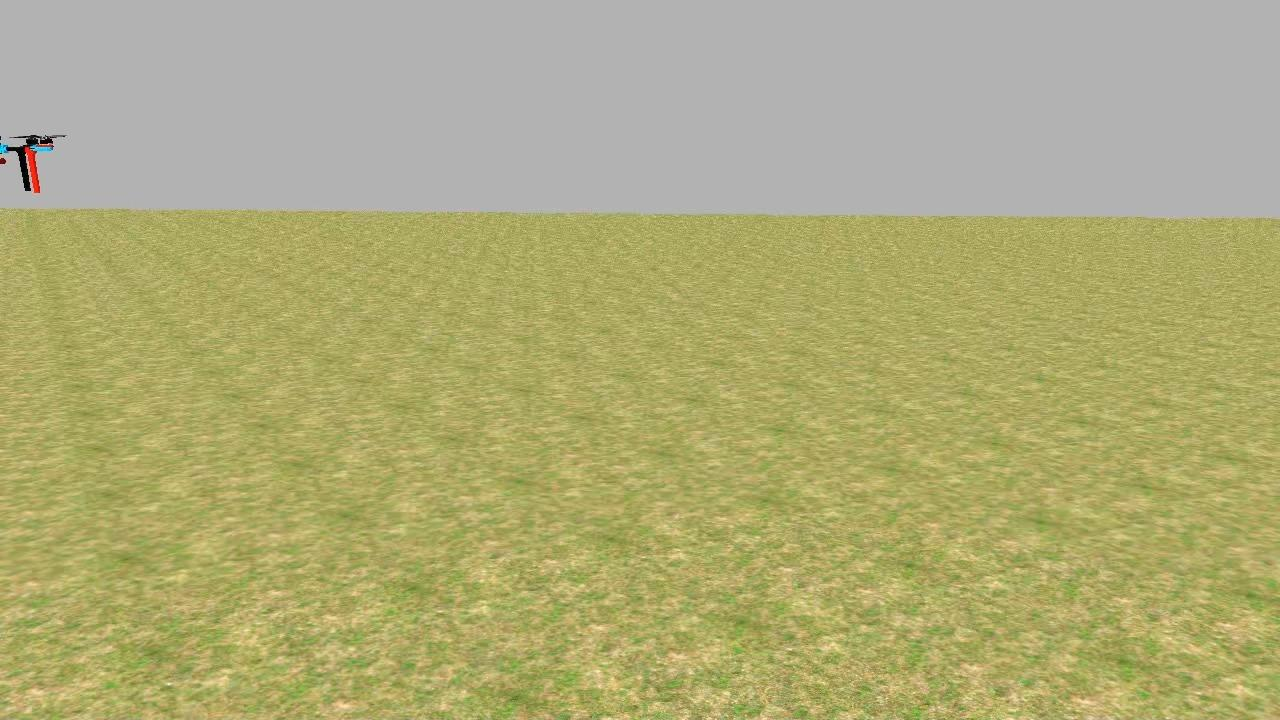UAV: (0, 116, 73, 207)
